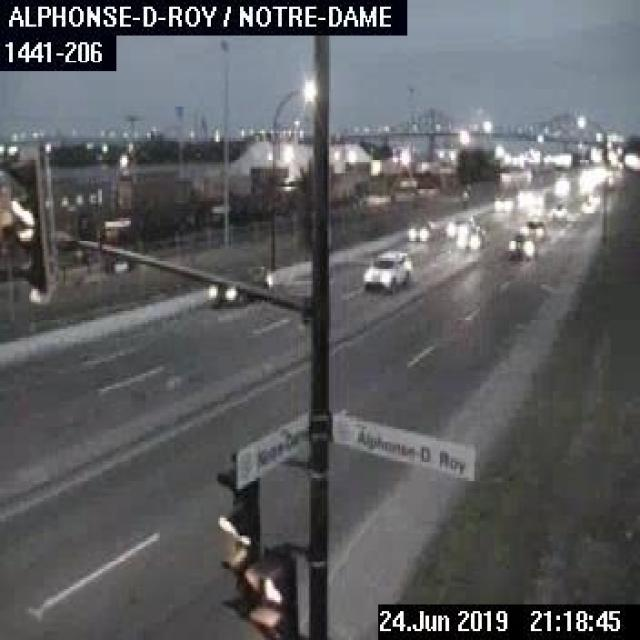vehicle: (207, 260, 271, 307), (360, 244, 411, 294), (451, 224, 489, 249), (404, 214, 434, 242), (444, 210, 475, 237), (505, 235, 537, 258), (518, 214, 546, 240), (489, 194, 513, 214)
